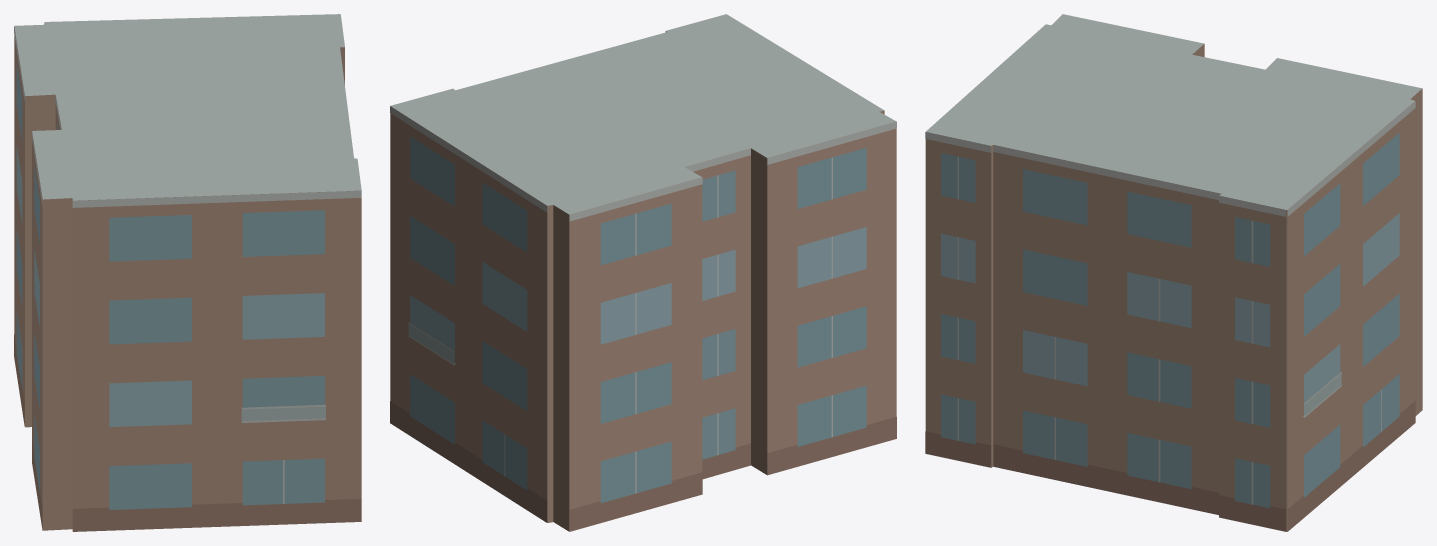
File: survey-upis-32815549.glb
3 renders of one model, left to right at view 1: azimuth 30°, elevation 25°; view 2: azimuth 150°, elevation 25°; view 3: azimuth 270°, elevation 25°, orthographic. The views are drawn at different scales.
Parts seen in each view (by area): view 1: survey-upis-32815549.tmp; view 2: survey-upis-32815549.tmp; view 3: survey-upis-32815549.tmp.
Part boxes in pixels (left/top/right/bottom): survey-upis-32815549.tmp: left=14, top=14, right=361, bottom=531; survey-upis-32815549.tmp: left=390, top=14, right=896, bottom=531; survey-upis-32815549.tmp: left=925, top=14, right=1422, bottom=531.
Bounding box in the file's own units: 14.57 × 11.15 × 15.61.
